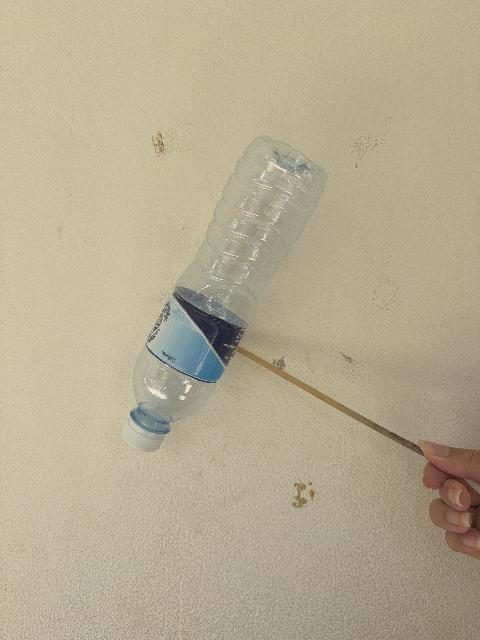bottle: (123, 137, 326, 451)
